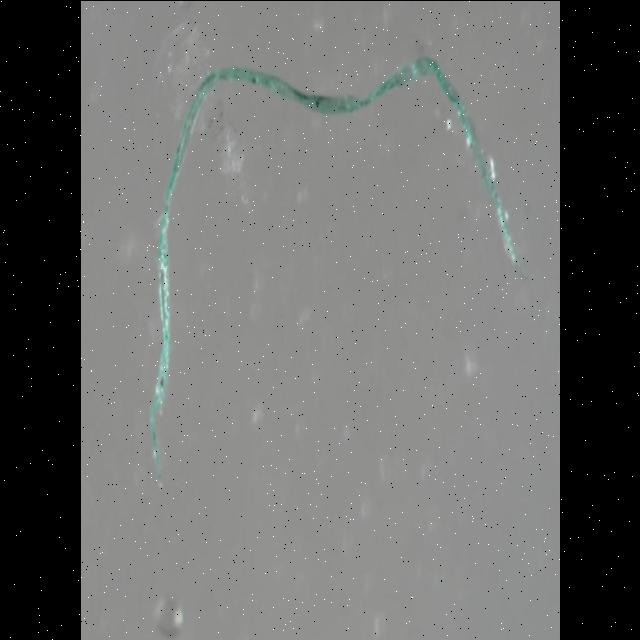Fibre: (148, 56, 528, 490)
